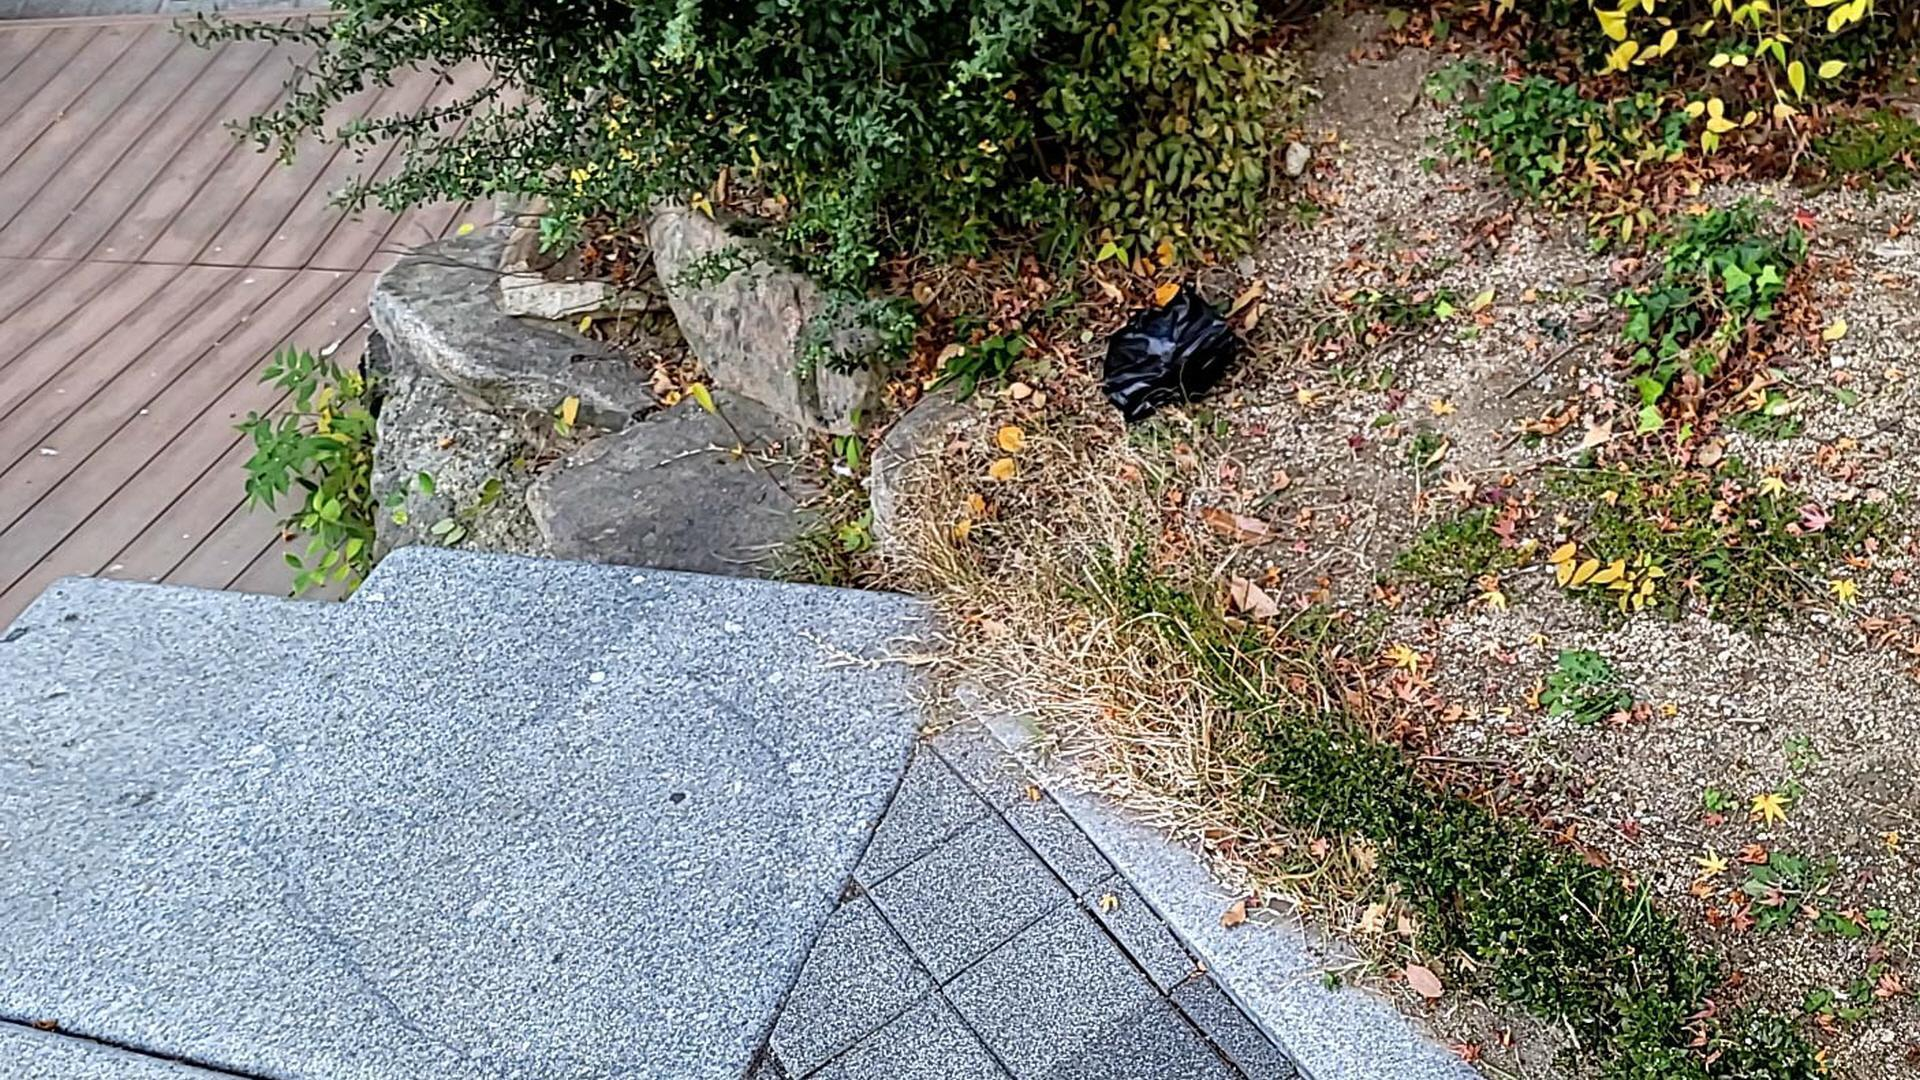black_bag: (1087, 278, 1242, 425)
